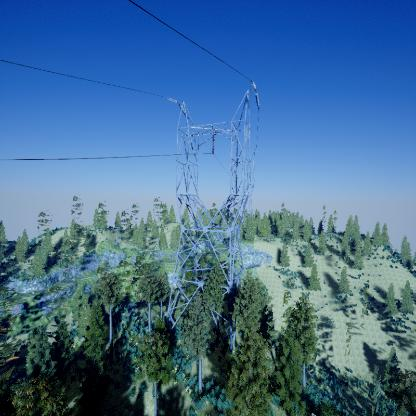tower: (162, 76, 262, 343)
